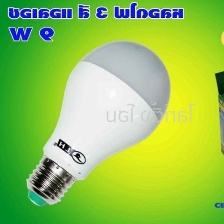light_bulb: (23, 34, 175, 210)
